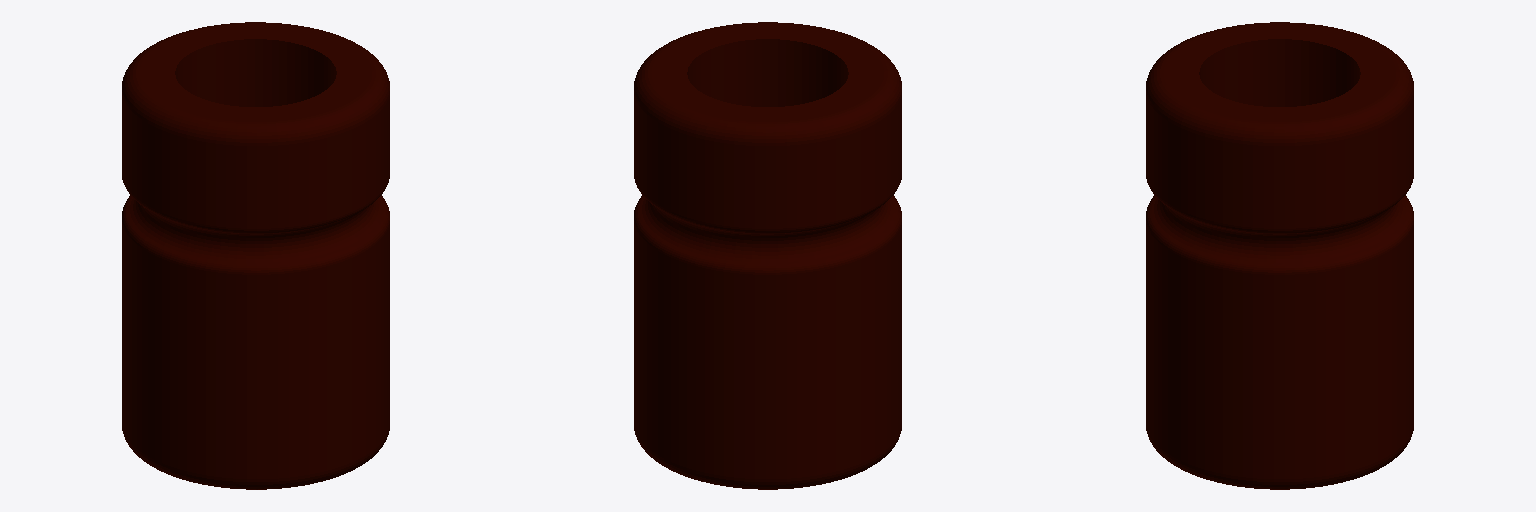
The model's file is petit-rond-trou-marron.obj.
3 views of the same model, side by side, from view 1: azimuth 30°, elevation 25°; view 2: azimuth 150°, elevation 25°; view 3: azimuth 270°, elevation 25° (orthographic).
Visible parts, largest first — view 1: quarto-pieces.007; view 2: quarto-pieces.007; view 3: quarto-pieces.007.
Boxes of the visible parts, x1=… form: quarto-pieces.007: x1=122, y1=22, x2=389, y2=489; quarto-pieces.007: x1=634, y1=22, x2=901, y2=489; quarto-pieces.007: x1=1146, y1=22, x2=1413, y2=489.
Bounding box in the file's own units: 29.98 × 45 × 29.98.